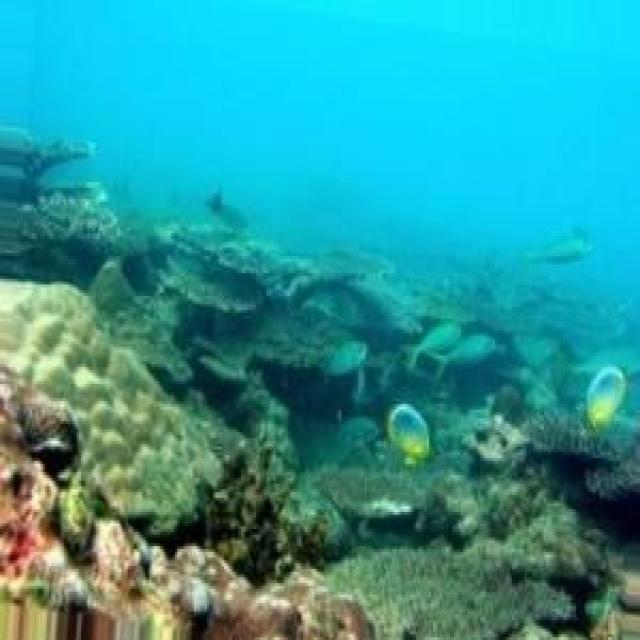bleached coral: (0, 284, 222, 546), (211, 575, 378, 640), (471, 410, 531, 466), (597, 569, 640, 640), (393, 506, 414, 518)
healthy coral: (151, 225, 384, 367), (431, 242, 617, 370), (0, 131, 122, 250), (339, 404, 437, 475)
